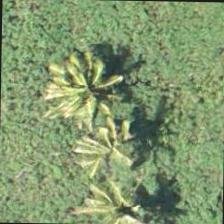Kelapa_Sawit: (38, 42, 130, 134), (68, 98, 160, 190), (80, 163, 173, 223)
